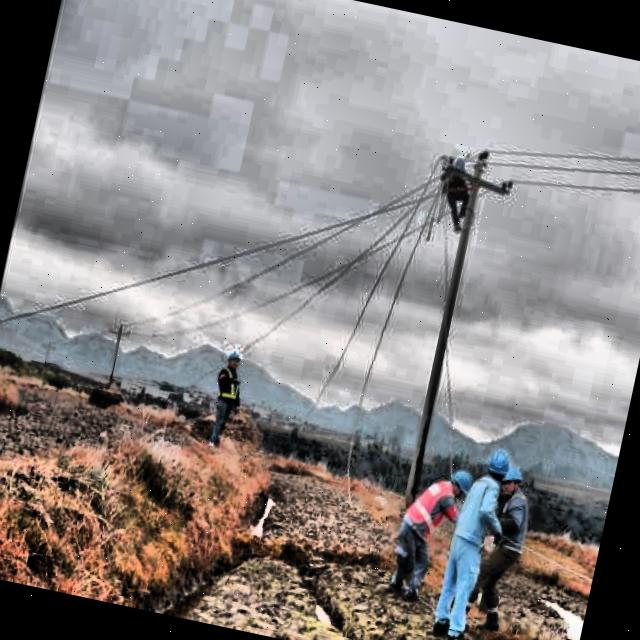helmet: (440, 462, 480, 504), (477, 441, 514, 485), (498, 460, 528, 500), (222, 346, 246, 374)
